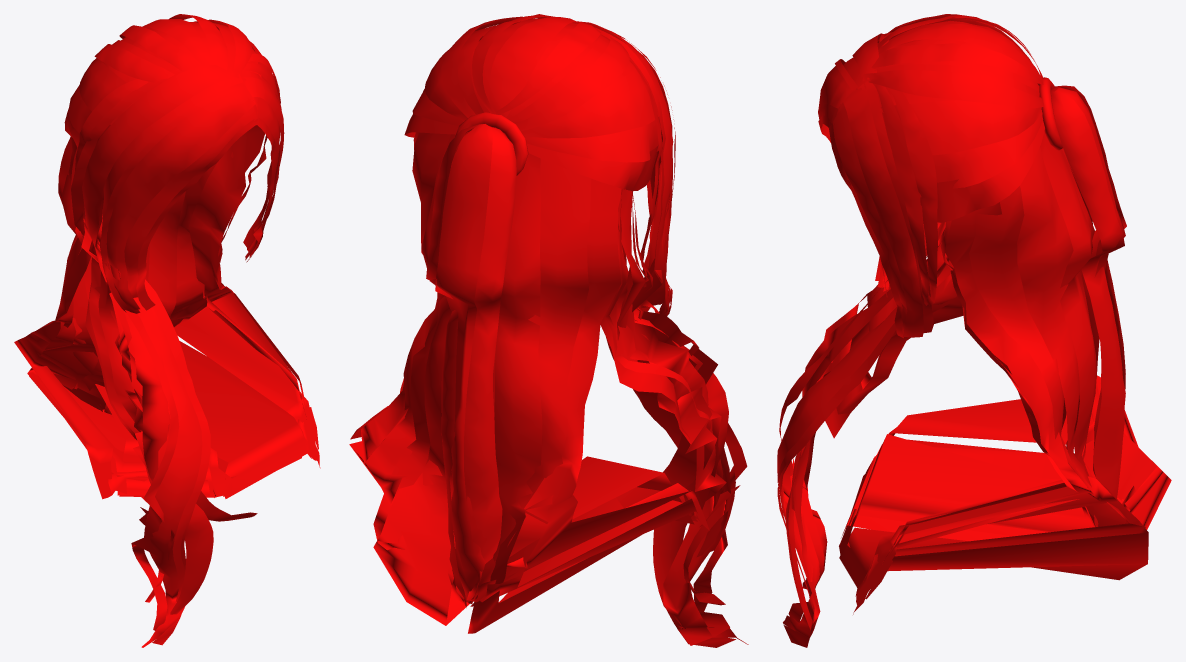
Rendered from elvs_lady_hippy_hair_F.glb.
3 views of the same model, side by side, from view 1: azimuth 30°, elevation 25°; view 2: azimuth 150°, elevation 25°; view 3: azimuth 270°, elevation 25° (orthographic). The views are drawn at different scales.
Bounding box in the file's own units: 0.2572 × 0.613 × 0.3314.
1 material, 1 textured.
